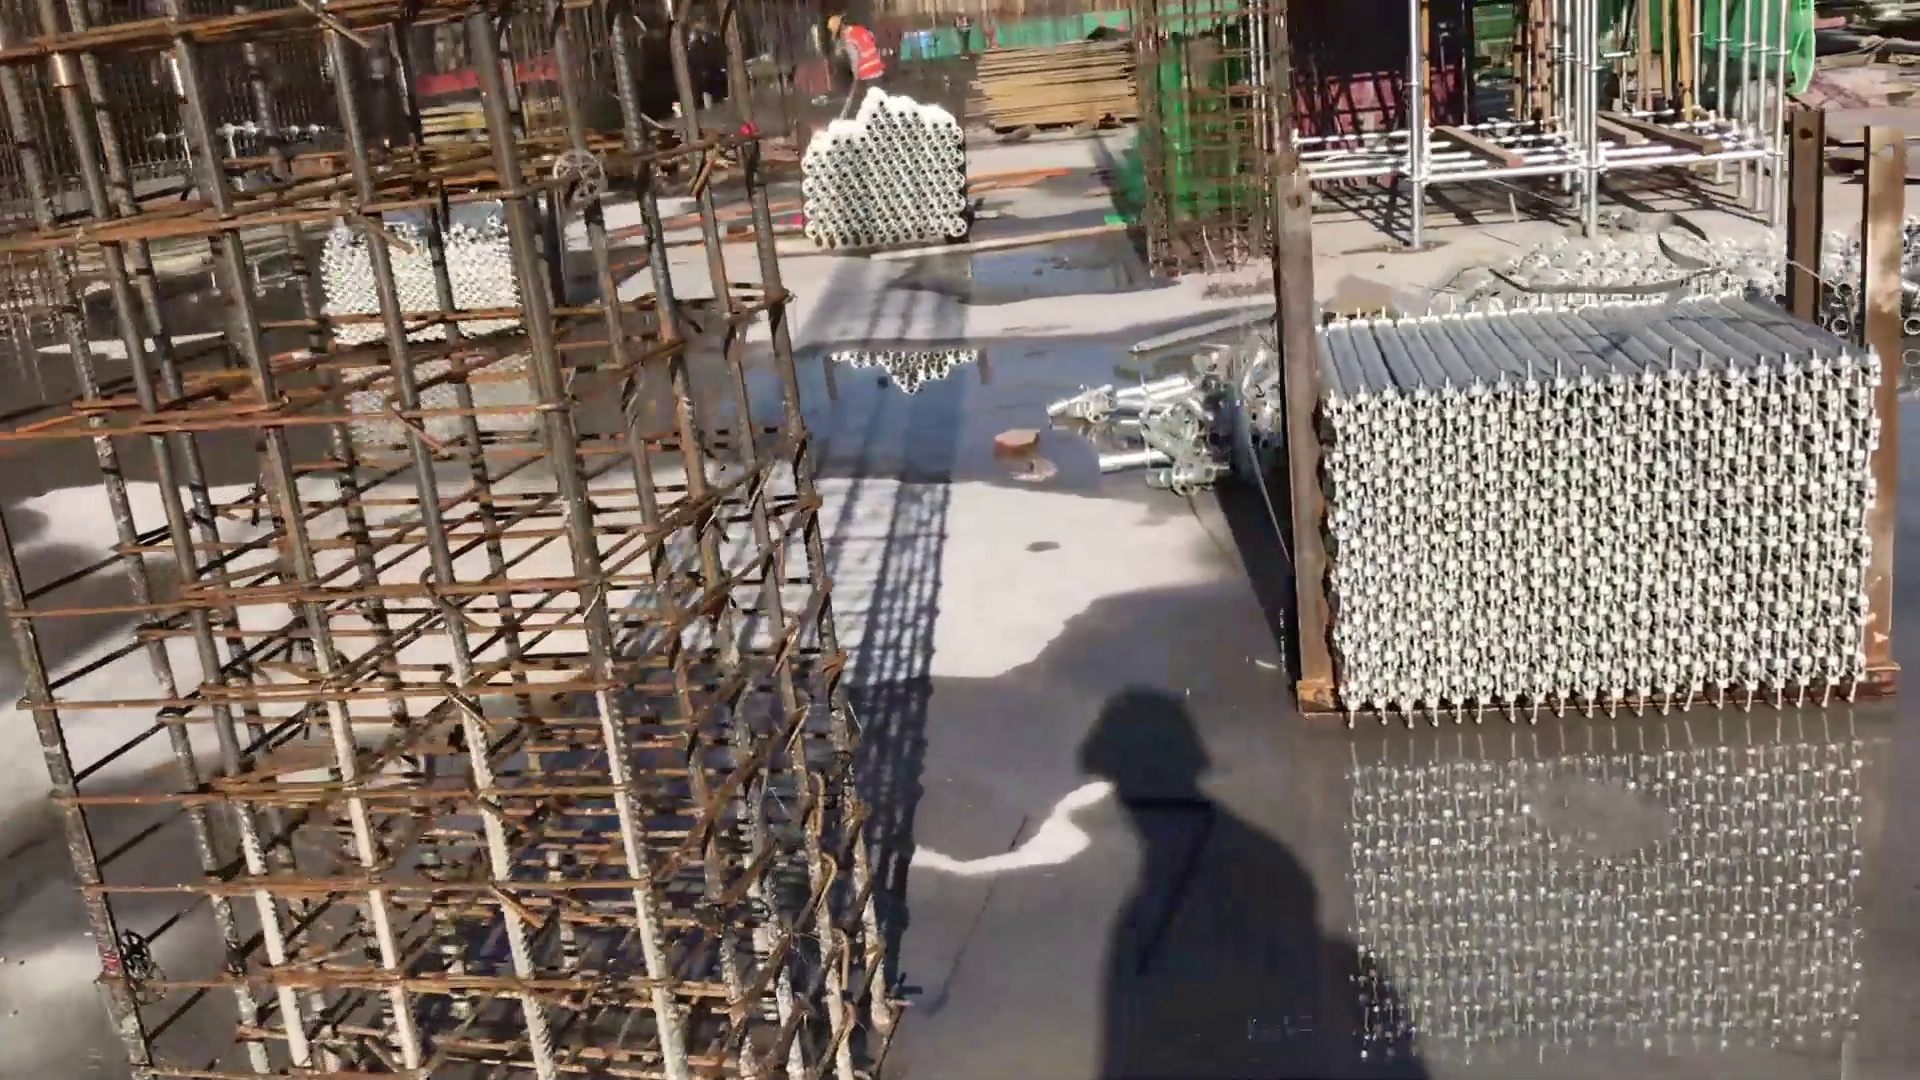board: (965, 9, 1127, 140)
helmet: (827, 7, 844, 35)
person: (811, 7, 890, 96)
scaffold: (1293, 233, 1881, 754), (778, 77, 1014, 285)
